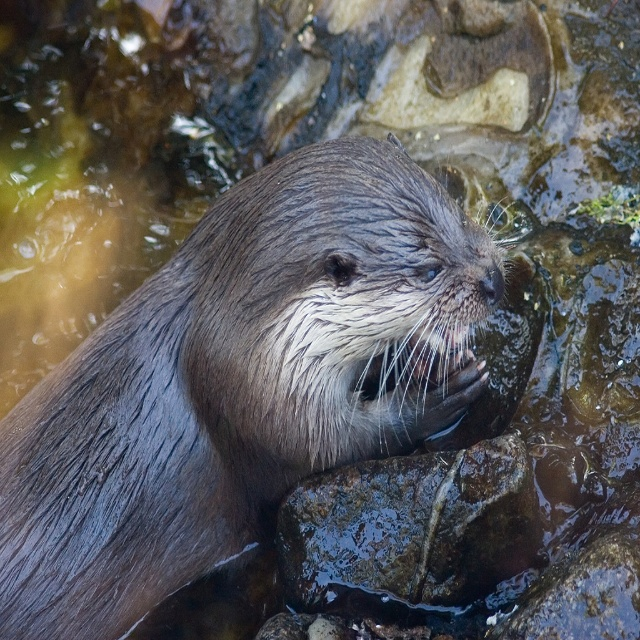Sea lion: (0, 134, 521, 640)
